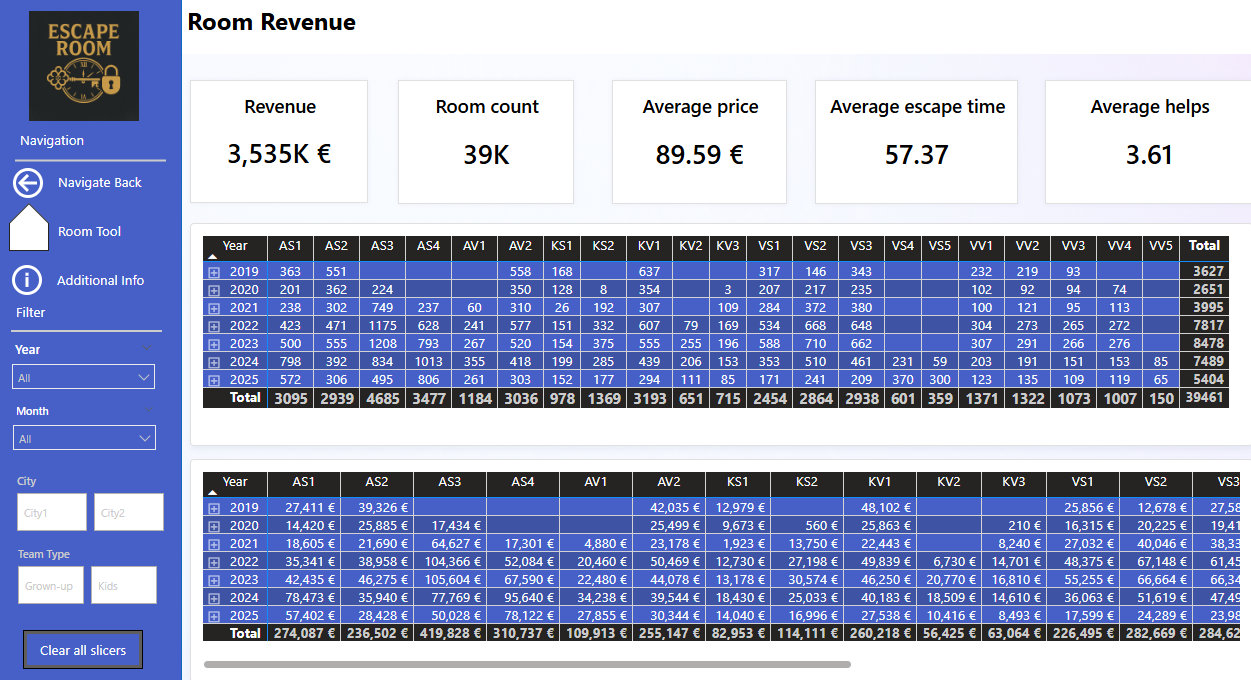

Layout of this report page (visuals, bound fields, positions):
{"tool":"powerbi","page":{"name":"Room Revenue","canvas":[1280,720],"ordinal":2},"visuals":[{"type":"textbox","box":[187.5,8.8,1092.5,55],"z":1000},{"type":"shape","box":[5,8.8,182.5,692.5],"z":3000},{"type":"shape","box":[21.3,156.8,151.1,27.1],"z":4000},{"type":"shape","box":[16.8,319.2,151.1,44],"z":5000},{"type":"textbox","box":[16.8,307.9,92.5,28.2],"z":6000},{"type":"textbox","box":[21.3,136.5,92.5,29.3],"z":7000},{"type":"slicer","fields":{"Values":["full_data.Data.Variation.Date Hierarchy.Year"]},"box":[13.4,349.6,152.2,56.4],"z":8000},{"type":"slicer","fields":{"Values":["full_data.Data.Variation.Date Hierarchy.Month"]},"box":[14.5,412.8,152.2,56.4],"z":9000},{"type":"advancedSlicerVisual","title":"City","fields":{"Values":["full_data.City"]},"box":[17.9,482.7,156.8,63.2],"z":10000},{"type":"advancedSlicerVisual","title":"Team Type","fields":{"Values":["full_data.TeamType"]},"box":[19,556,150,63.2],"z":11000},{"type":"actionButton","box":[13.9,172.8,46.6,40.3],"z":12000},{"type":"actionButton","box":[12.6,270,45.6,40],"z":13000},{"type":"textbox","box":[58.7,178.2,120.9,28.7],"z":14000},{"type":"textbox","box":[58.7,227.5,120.9,28.7],"z":15000},{"type":"textbox","box":[58.2,275.6,121.1,27.8],"z":16000},{"type":"actionButton","box":[29.1,640.3,120,38.5],"z":17000},{"type":"pageNavigator","box":[14.9,213.3,40,47.8],"z":18000},{"type":"image","box":[27.5,16.2,123.8,120],"z":19000},{"type":"card","title":"Room count","fields":{"Values":["full_data.Count_Kambarys"]},"box":[403.8,75.6,176.2,123.8],"z":20000},{"type":"card","title":"Average escape time","fields":{"Values":["Avg(full_data.Escape Time)"]},"box":[821.2,75.6,202.5,123.8],"z":21000},{"type":"card","title":"Average helps","fields":{"Values":["Avg(full_data.Helps)"]},"box":[1051.2,75.6,207.5,123.8],"z":22000},{"type":"card","title":"Revenue","fields":{"Values":["Sum(full_data.Revenue)"]},"box":[196.7,76.7,176.7,122.2],"z":23000},{"type":"card","title":"Average price","fields":{"Values":["full_data.Average Price"]},"box":[617.5,75.6,175,123.8],"z":24000},{"type":"pivotTable","fields":{"Values":["full_data.Count_Kambarys"],"Rows":["full_data.Data.Variation.Date Hierarchy.Year","full_data.Data.Variation.Date Hierarchy.Quarter","full_data.Data.Variation.Date Hierarchy.Month","full_data.Data.Variation.Date Hierarchy.Day"],"Columns":["full_data.Room type"]},"box":[196.7,468.9,1062.2,244.4],"z":24001},{"type":"pivotTable","fields":{"Values":["Sum(full_data.Revenue)"],"Rows":["full_data.Data.Variation.Date Hierarchy.Year","full_data.Data.Variation.Date Hierarchy.Quarter","full_data.Data.Variation.Date Hierarchy.Month","full_data.Data.Variation.Date Hierarchy.Day"],"Columns":["full_data.Room type"]},"box":[196.7,224.4,1062.2,244.4],"z":24002}]}

Visuals, with their boxes on the page's 1280x720 design canvas (x1, y1, x2, y2). These are canvas units, not pixel positions in the 1251x680 screenshot, which may show the page scaled, cropped or inside an application window:
textbox: left=188, top=9, right=1280, bottom=64
shape: left=5, top=9, right=188, bottom=701
shape: left=21, top=157, right=172, bottom=184
shape: left=17, top=319, right=168, bottom=363
textbox: left=17, top=308, right=109, bottom=336
textbox: left=21, top=136, right=114, bottom=166
slicer - full_data.Data.Variation.Date Hierarchy.Year: left=13, top=350, right=166, bottom=406
slicer - full_data.Data.Variation.Date Hierarchy.Month: left=14, top=413, right=167, bottom=469
"City" advancedSlicerVisual: left=18, top=483, right=175, bottom=546
"Team Type" advancedSlicerVisual: left=19, top=556, right=169, bottom=619
actionButton: left=14, top=173, right=60, bottom=213
actionButton: left=13, top=270, right=58, bottom=310
textbox: left=59, top=178, right=180, bottom=207
textbox: left=59, top=228, right=180, bottom=256
textbox: left=58, top=276, right=179, bottom=303
actionButton: left=29, top=640, right=149, bottom=679
pageNavigator: left=15, top=213, right=55, bottom=261
image: left=28, top=16, right=151, bottom=136
"Room count" card: left=404, top=76, right=580, bottom=199
"Average escape time" card: left=821, top=76, right=1024, bottom=199
"Average helps" card: left=1051, top=76, right=1259, bottom=199
"Revenue" card: left=197, top=77, right=373, bottom=199
"Average price" card: left=618, top=76, right=792, bottom=199
pivotTable - full_data.Count_Kambarys x full_data.Data.Variation.Date Hierarchy.Year: left=197, top=469, right=1259, bottom=713
pivotTable - Sum(full_data.Revenue) x full_data.Data.Variation.Date Hierarchy.Year: left=197, top=224, right=1259, bottom=469
